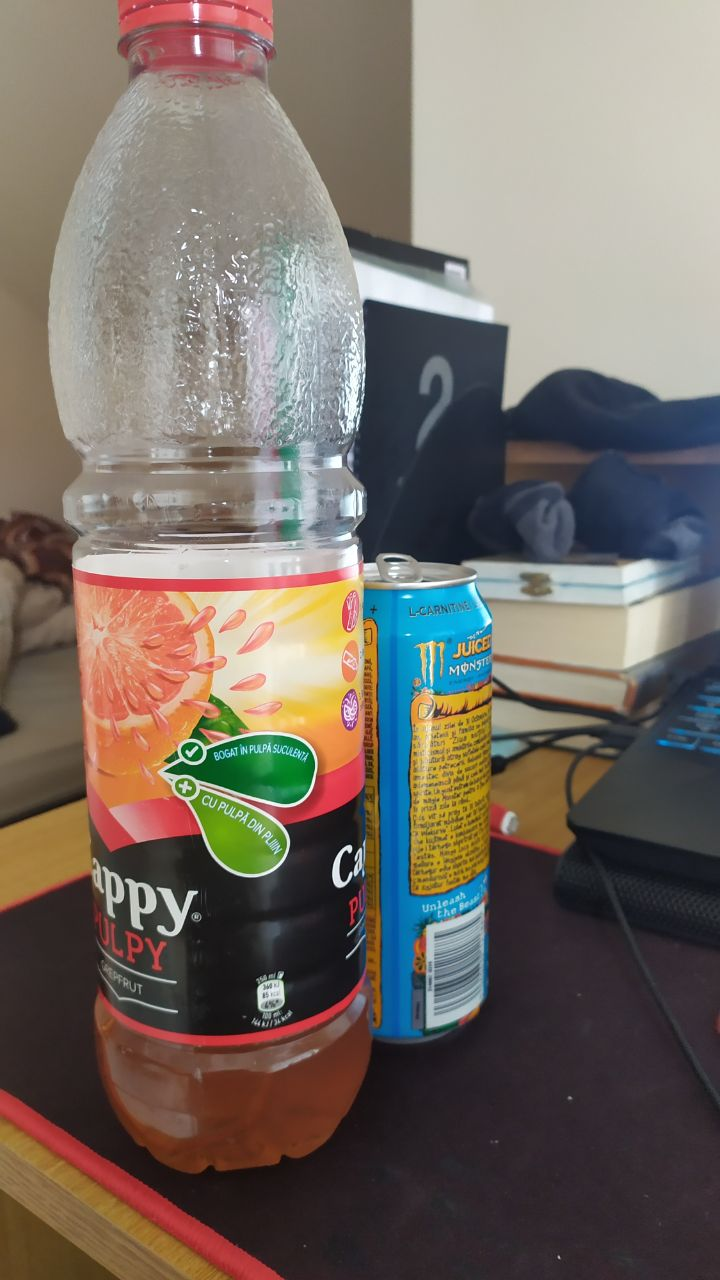Can: (363, 563, 497, 1047)
